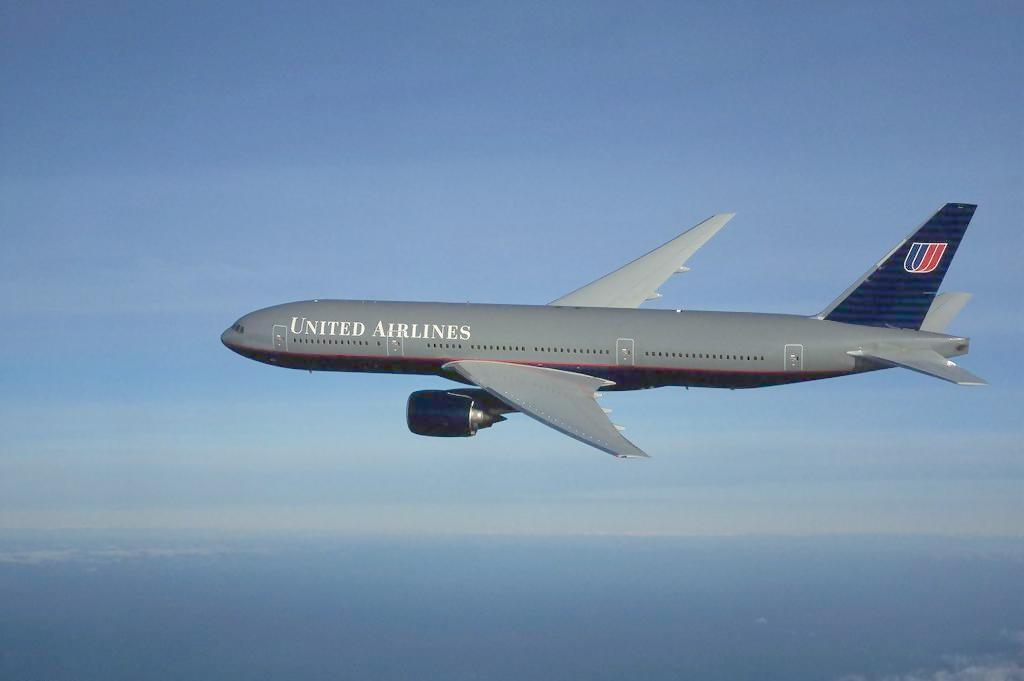airplane: (221, 184, 987, 473)
